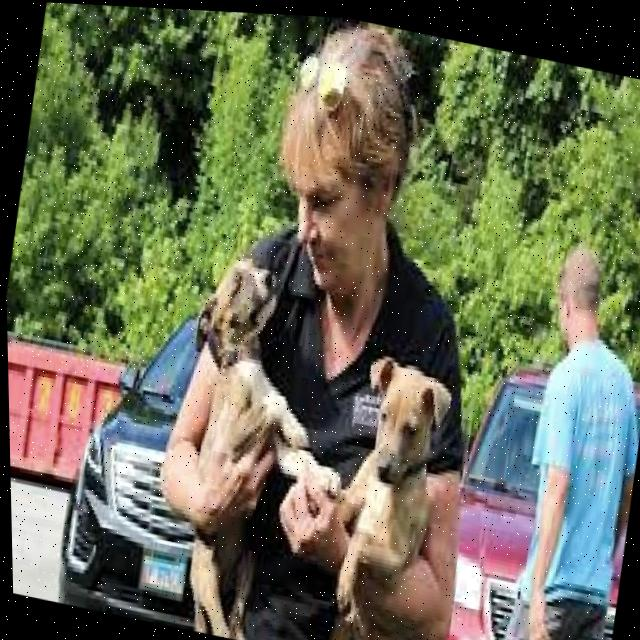civilian: (157, 8, 553, 640), (449, 227, 640, 640)
dog: (137, 245, 357, 640), (301, 337, 482, 640)
